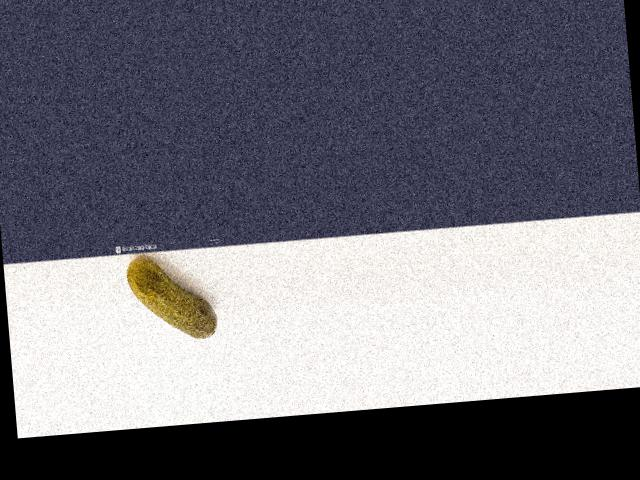cucumber: (125, 251, 218, 343)
